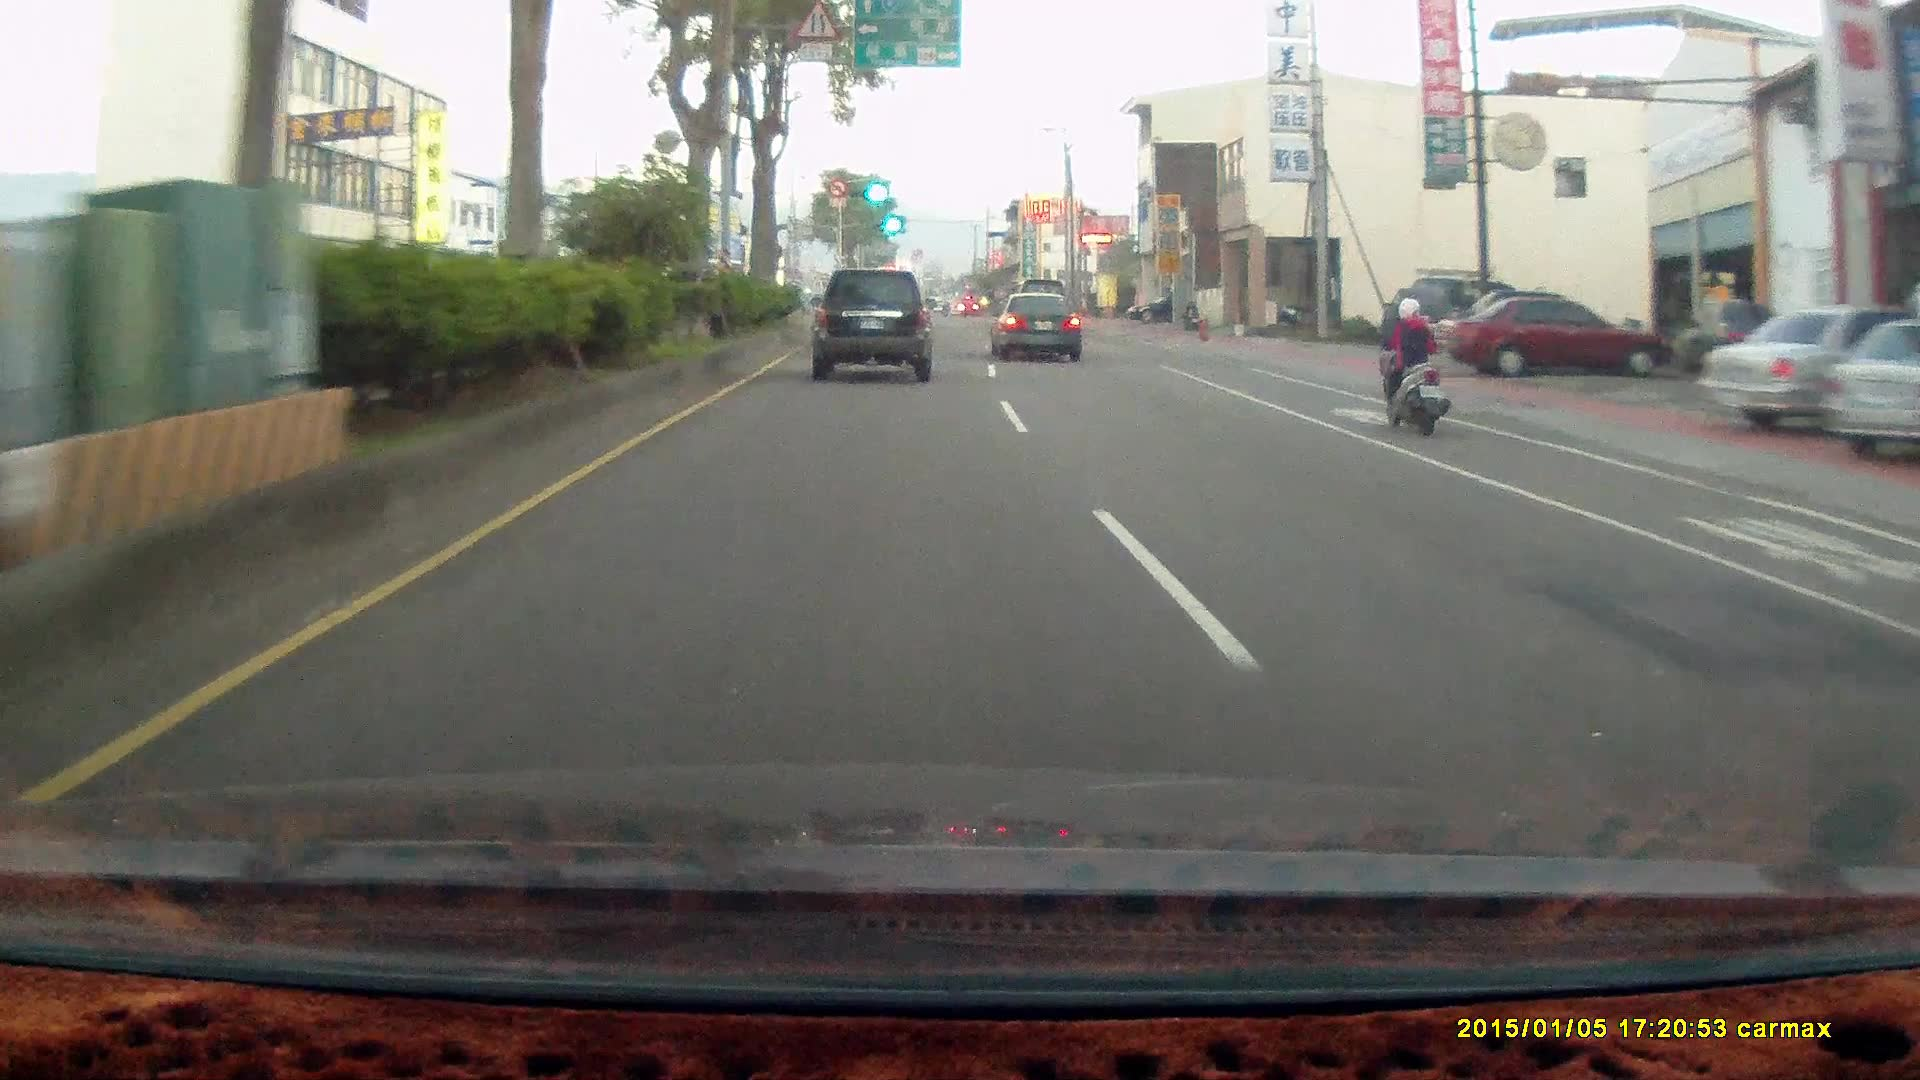rider: (1361, 286, 1464, 449), (1373, 292, 1447, 432)
vehicle: (1700, 307, 1910, 438), (1444, 297, 1664, 385), (1433, 295, 1668, 377), (1816, 315, 1920, 463), (1814, 315, 1920, 459), (811, 272, 936, 386), (811, 271, 933, 384), (1396, 273, 1535, 363), (1400, 276, 1527, 359), (1672, 300, 1780, 375), (987, 288, 1080, 359), (992, 291, 1085, 362), (1124, 292, 1199, 322)
